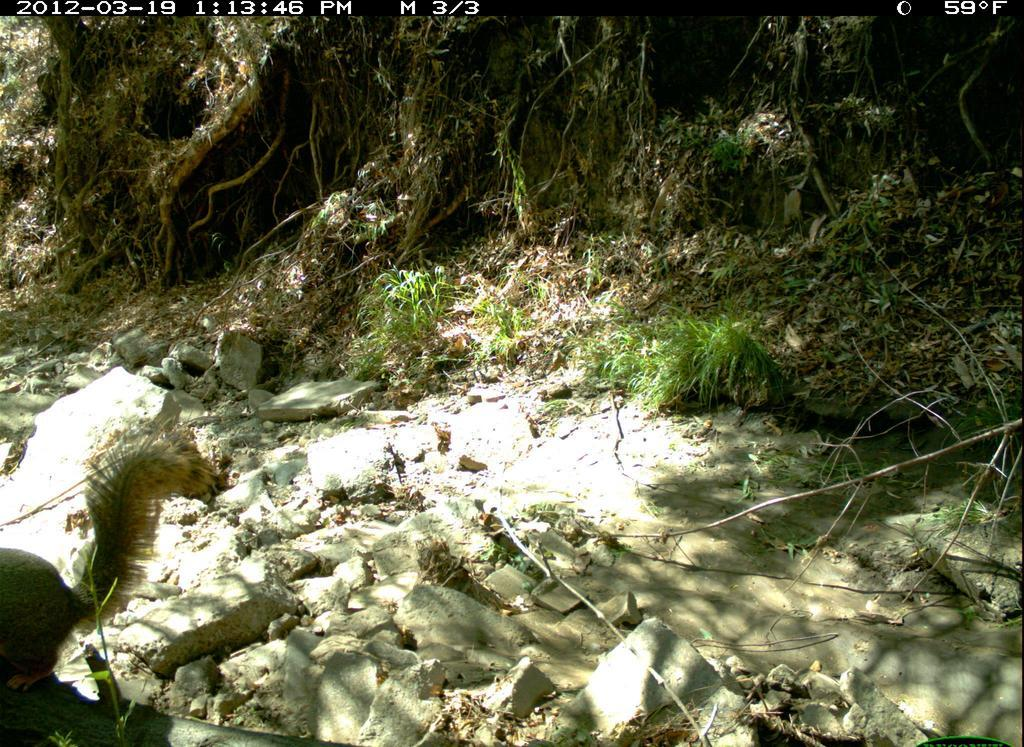squirrel: (6, 417, 216, 711)
